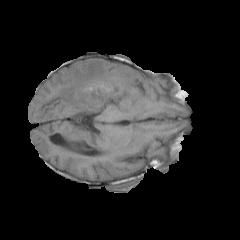glioma: (39, 60, 136, 152)
